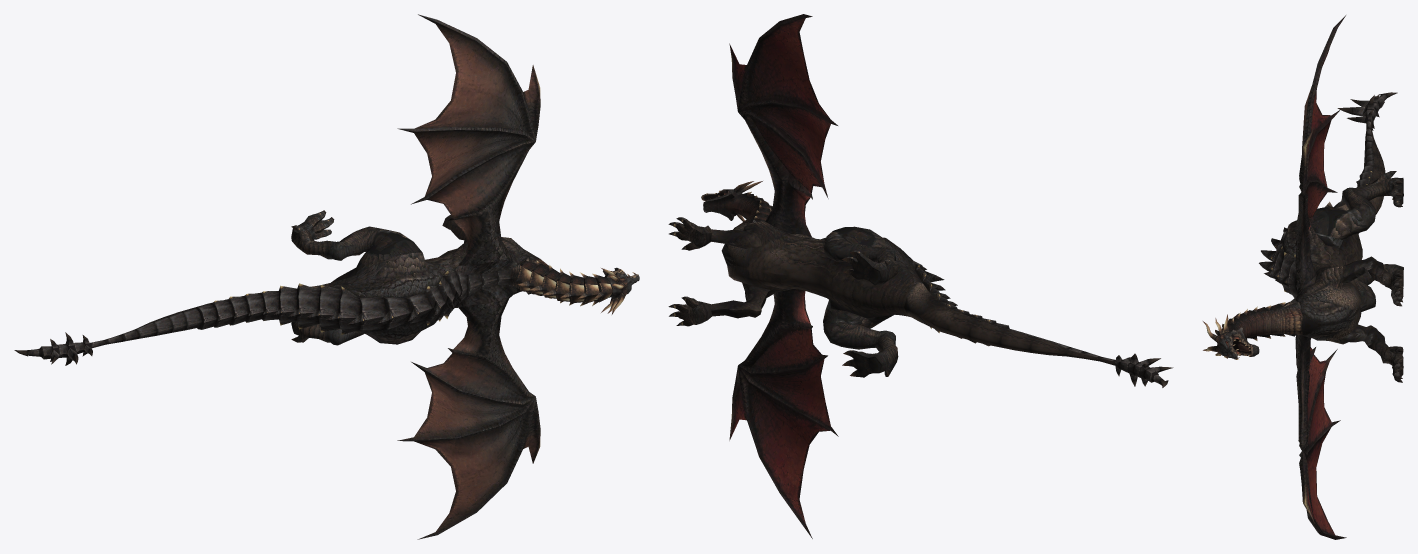
The model's file is dragon_new.obj.
3 views of the same model, side by side, from view 1: azimuth 30°, elevation 25°; view 2: azimuth 150°, elevation 25°; view 3: azimuth 270°, elevation 25° (orthographic).
Visible parts, largest first — view 1: objMatMesh4, ObjMatMesh2, ObjMatMesh3, ObjMatMesh1; view 2: objMatMesh4, ObjMatMesh2, ObjMatMesh3, ObjMatMesh1; view 3: ObjMatMesh2, objMatMesh4, ObjMatMesh3, ObjMatMesh1.
Part boxes in pixels (x1=…): objMatMesh4: x1=397, y1=14, x2=540, y2=539; ObjMatMesh2: x1=14, y1=215, x2=539, y2=365; ObjMatMesh3: x1=291, y1=210, x2=422, y2=345; ObjMatMesh1: x1=355, y1=256, x2=639, y2=314; objMatMesh4: x1=729, y1=14, x2=838, y2=538; ObjMatMesh2: x1=668, y1=217, x2=1173, y2=387; ObjMatMesh3: x1=823, y1=226, x2=898, y2=377; ObjMatMesh1: x1=701, y1=181, x2=893, y2=323; ObjMatMesh2: x1=1259, y1=92, x2=1403, y2=382; objMatMesh4: x1=1295, y1=15, x2=1346, y2=539; ObjMatMesh3: x1=1311, y1=171, x2=1403, y2=311; ObjMatMesh1: x1=1203, y1=232, x2=1342, y2=359.
Bounding box in the file's own units: 49.86 × 46.04 × 16.07.
4 materials, 4 textured.
